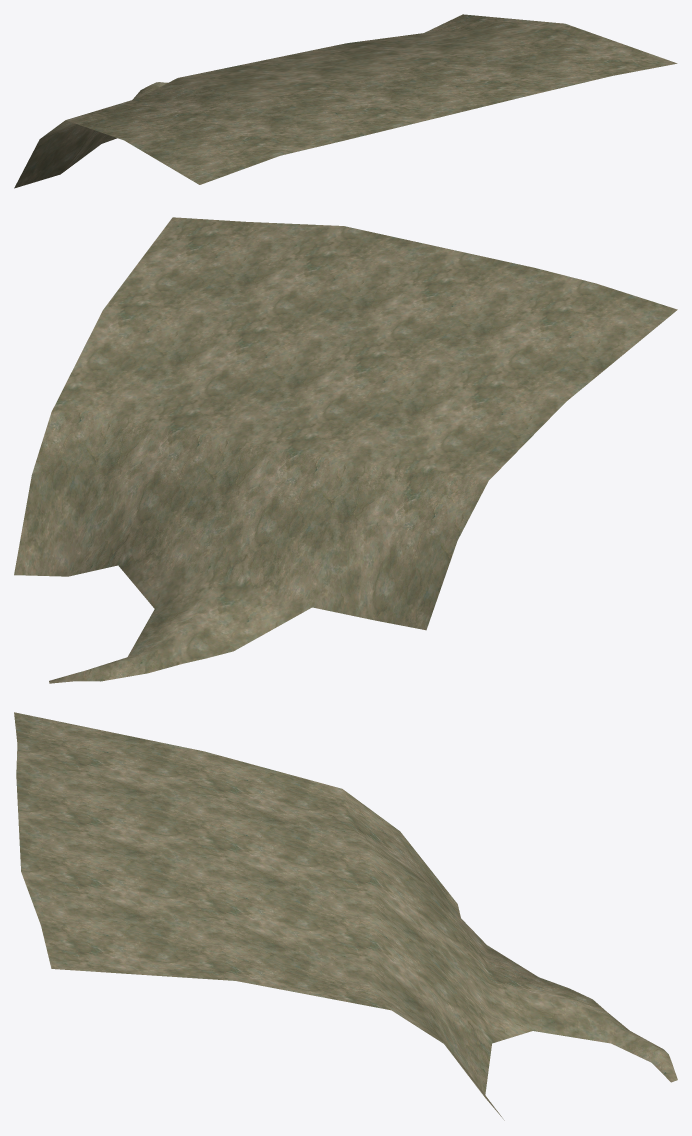
The model's file is OVERHILL_A_01_OBJECT162.fbx.
The picture shows the model from 3 angles, top to bottom: view 1: azimuth 30°, elevation 25°; view 2: azimuth 150°, elevation 25°; view 3: azimuth 270°, elevation 25°; orthographic projection. The views are drawn at different scales.
Visible parts, largest first — view 1: OVERHILL_A_01_OBJECT162; view 2: OVERHILL_A_01_OBJECT162; view 3: OVERHILL_A_01_OBJECT162.
Boxes of the visible parts, x1=… form: OVERHILL_A_01_OBJECT162: x1=14, y1=14, x2=677, y2=188; OVERHILL_A_01_OBJECT162: x1=14, y1=217, x2=677, y2=683; OVERHILL_A_01_OBJECT162: x1=14, y1=712, x2=677, y2=1120.
Size of the model in its own units: 289022 by 124415 by 333354.
Materials: 2 (2 with a texture image).
